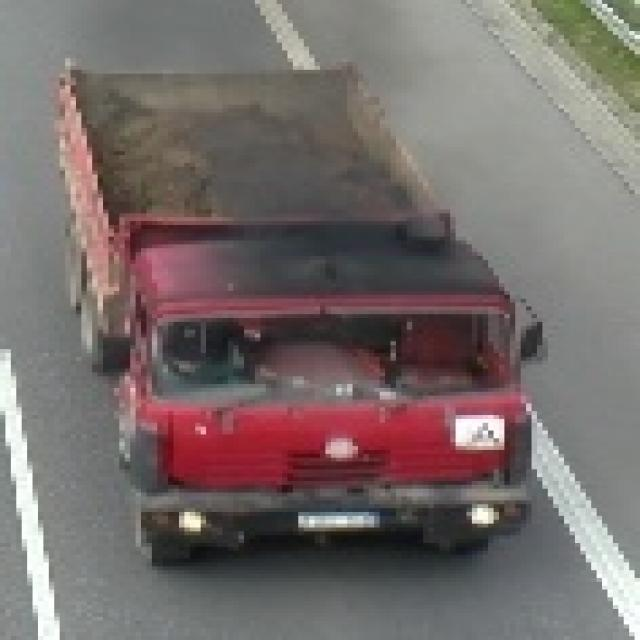truck: (43, 54, 537, 570)
